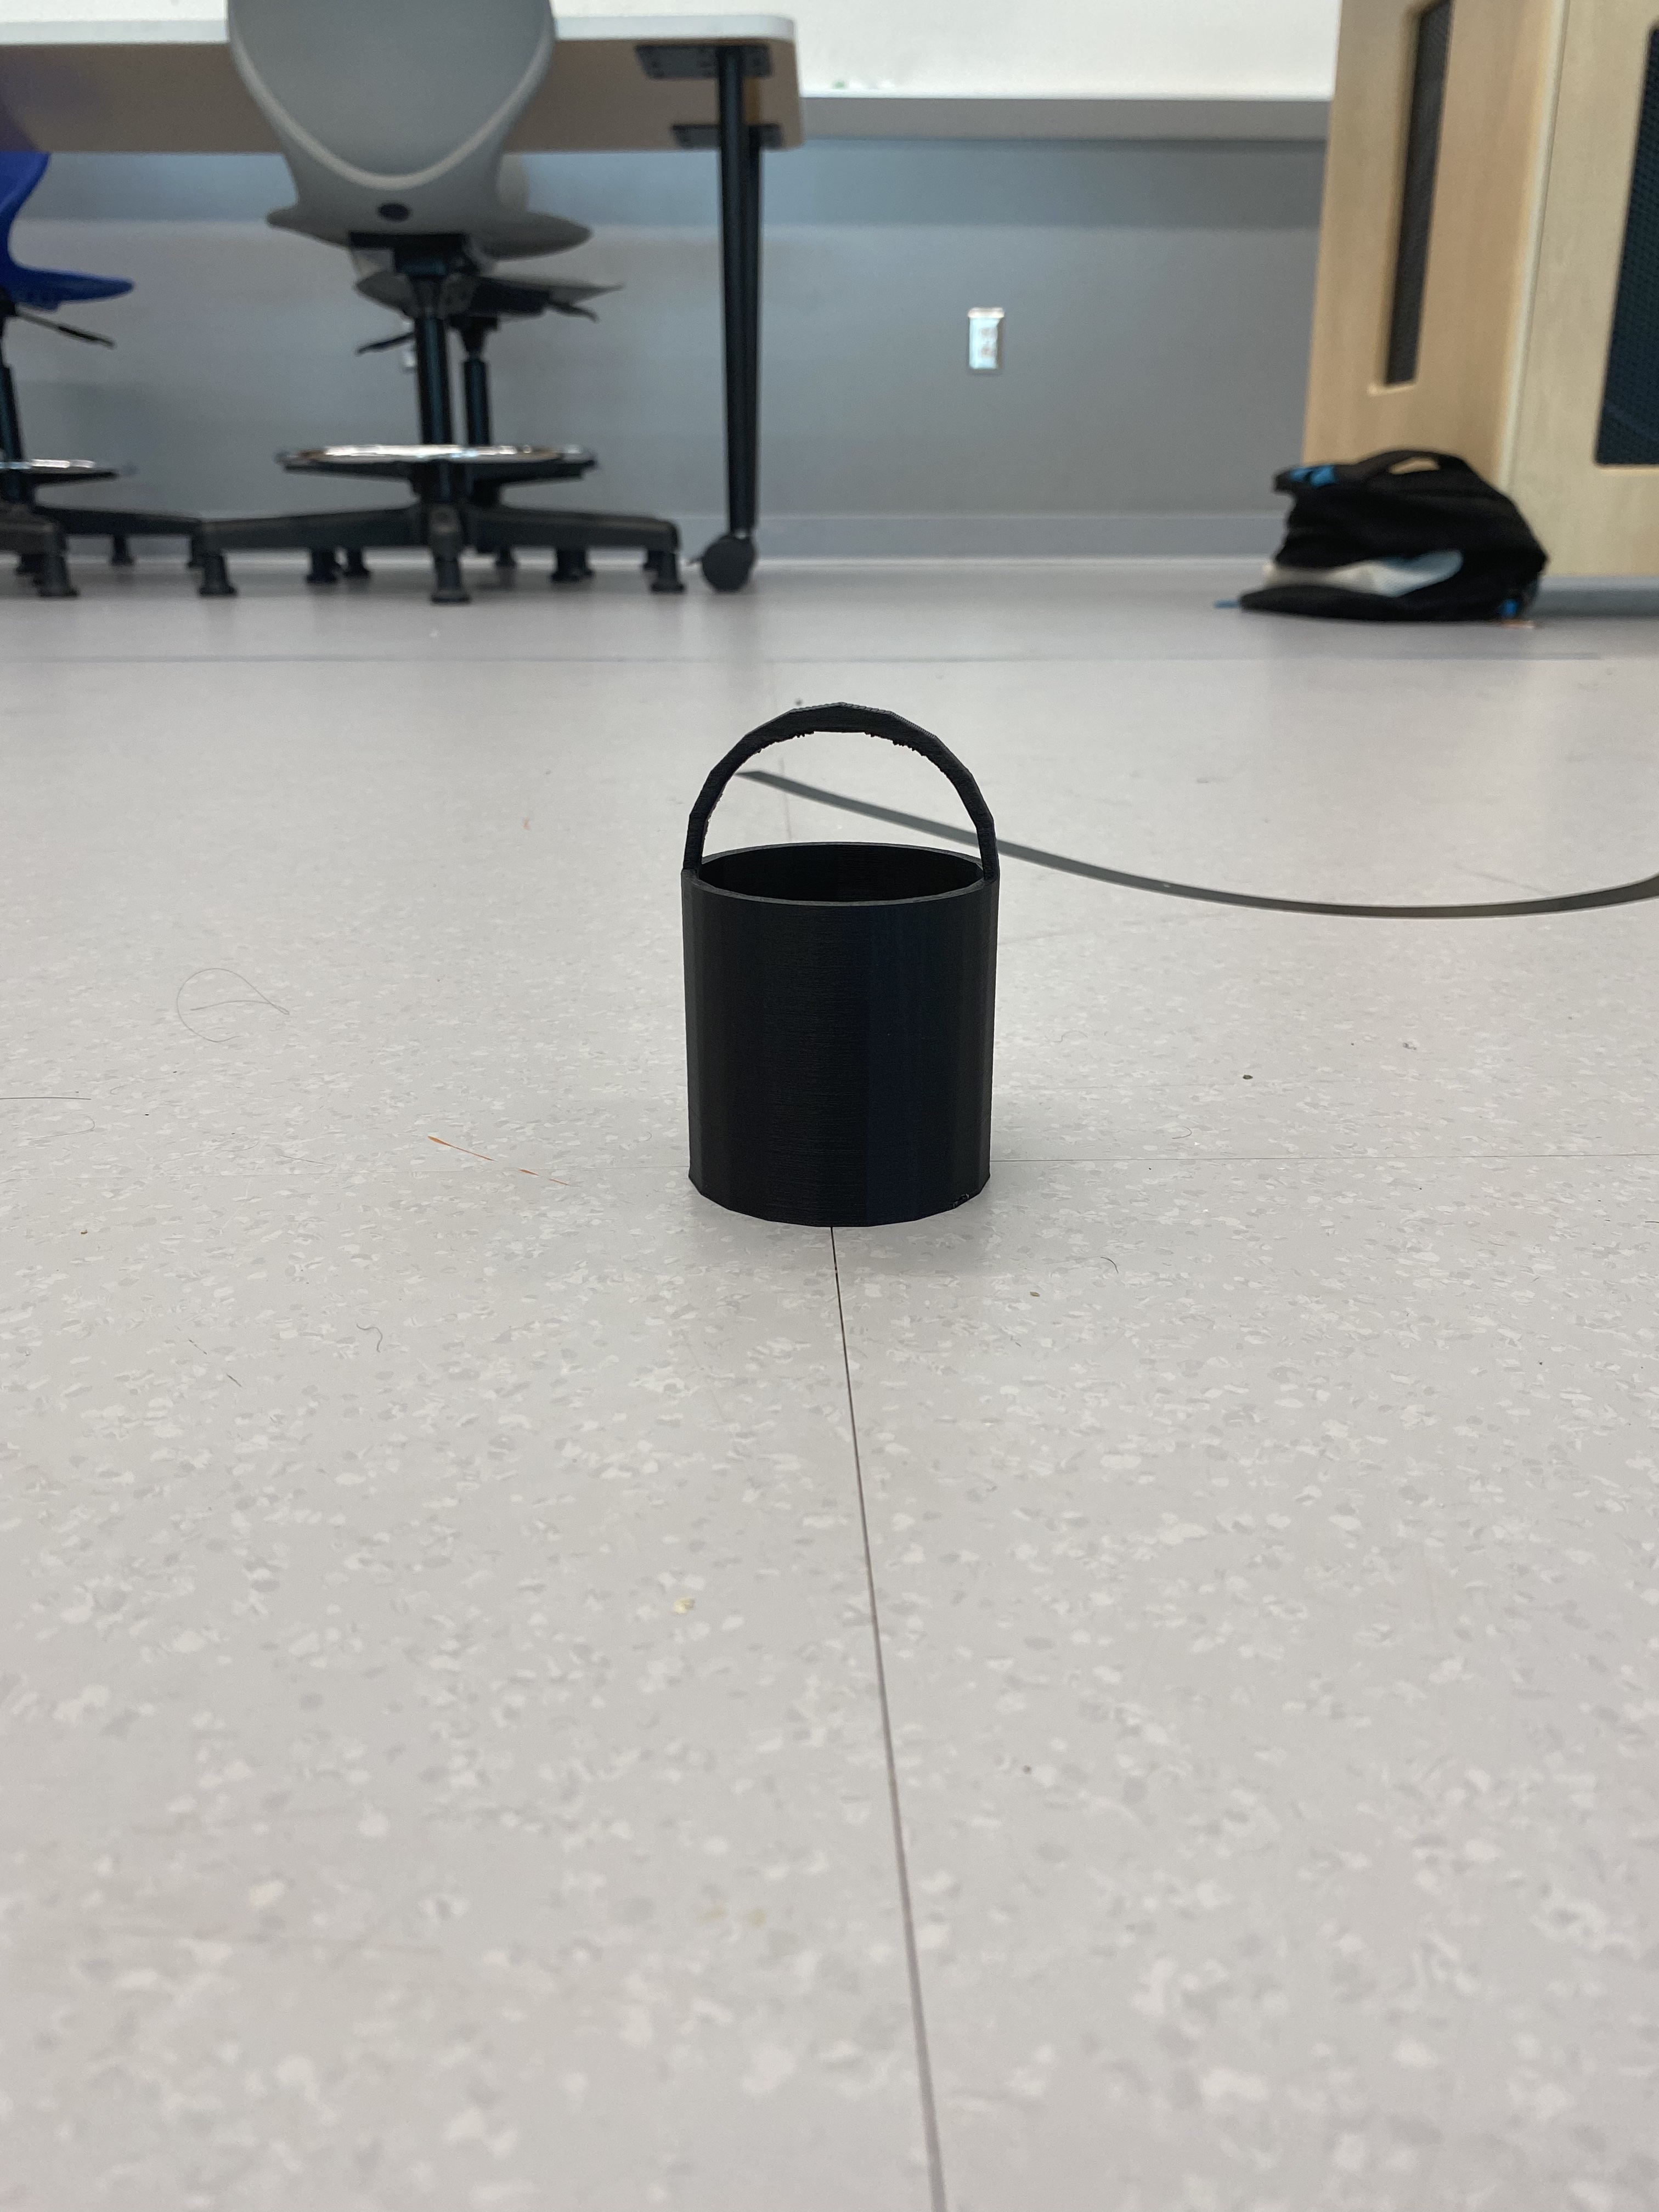bag: (674, 691, 1006, 1230)
